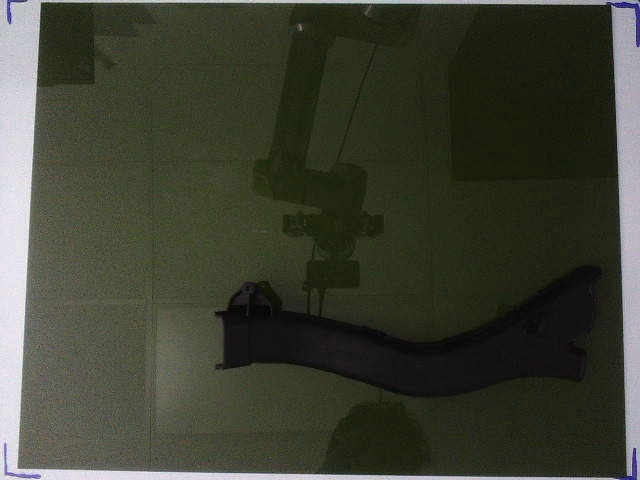887_A-Top: (214, 265, 600, 399)
